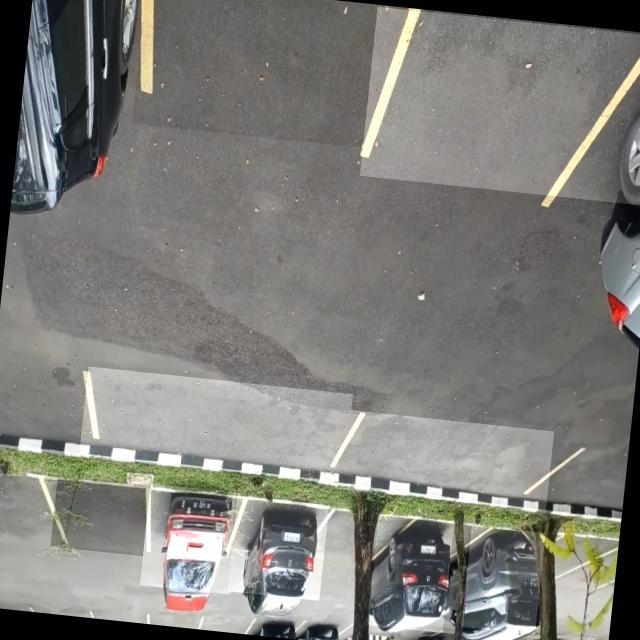empty: (363, 10, 640, 195), (145, 0, 411, 148), (79, 366, 352, 482), (334, 409, 554, 510), (50, 477, 154, 557)
occupied: (140, 483, 240, 594), (366, 513, 454, 633), (228, 496, 328, 600), (461, 524, 545, 634)
